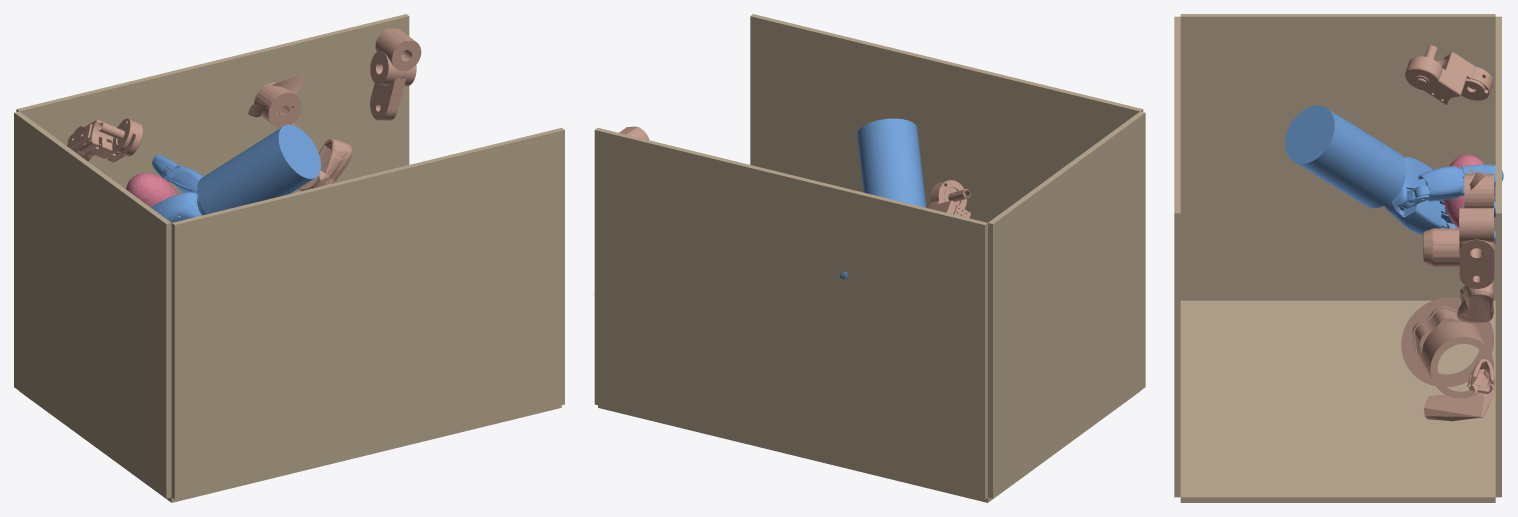
3 renders of one model, left to right at view 1: azimuth 30°, elevation 25°; view 2: azimuth 150°, elevation 25°; view 3: azimuth 270°, elevation 25°, orthographic. The views are drawn at different scales.
Visible parts, largest first — view 1: environment, hand, obstacle_001, obstacle_005, obstacle_003, obstacle_000, world; view 2: environment, hand, obstacle_005; view 3: environment, hand, obstacle_002, obstacle_005, obstacle_001, obstacle_008, obstacle_007, obstacle_000, obstacle_003, obstacle_004, world.
Part boxes in pixels (box(x1,y1,x2,y2)): environment: box(14, 14, 564, 502); hand: box(151, 124, 320, 222); obstacle_001: box(370, 28, 421, 120); obstacle_005: box(66, 118, 143, 162); obstacle_003: box(248, 74, 306, 127); obstacle_000: box(301, 138, 352, 191); world: box(126, 173, 177, 207); environment: box(594, 14, 1145, 502); hand: box(839, 118, 926, 279); obstacle_005: box(928, 180, 970, 218); environment: box(1174, 14, 1501, 502); hand: box(1285, 105, 1503, 243); obstacle_002: box(1401, 297, 1494, 398); obstacle_005: box(1405, 45, 1493, 105); obstacle_001: box(1459, 208, 1494, 288); obstacle_008: box(1423, 390, 1493, 421); obstacle_007: box(1423, 228, 1459, 266); obstacle_000: box(1457, 281, 1493, 323); obstacle_003: box(1464, 167, 1493, 207); obstacle_004: box(1466, 359, 1494, 394); world: box(1443, 154, 1494, 228).
Size of the model in its own units: 0.6191 by 0.4067 by 0.419.
